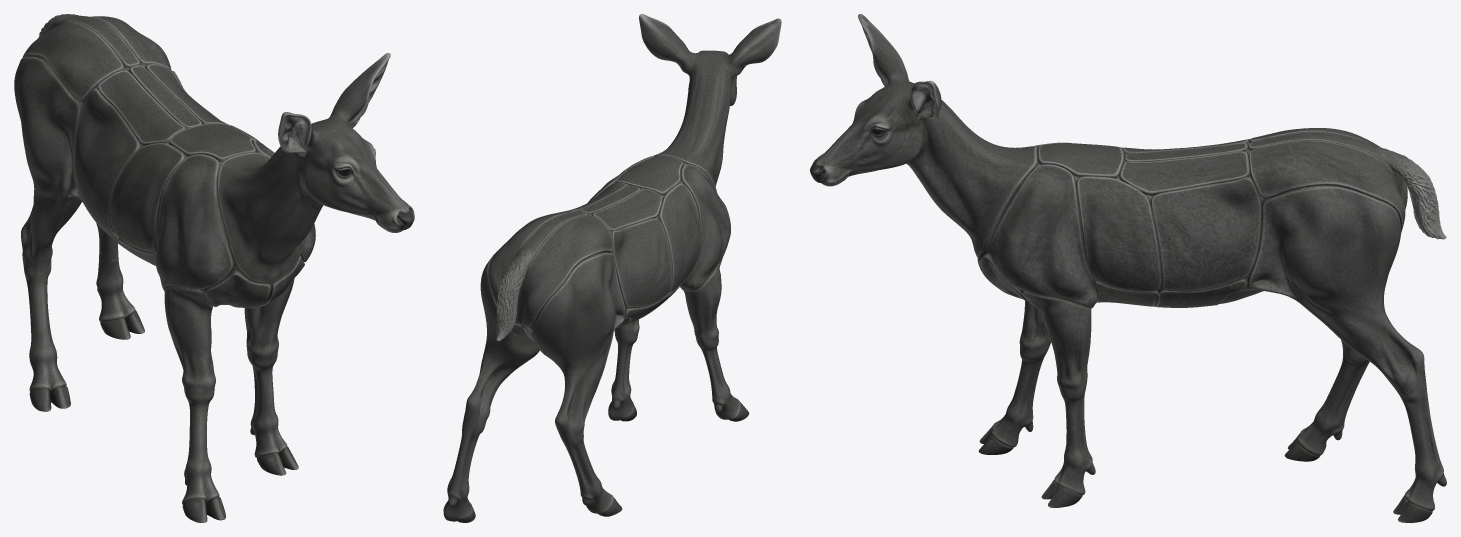
The model's file is deer-doe.glb.
3 renders of one model, left to right at view 1: azimuth 30°, elevation 25°; view 2: azimuth 150°, elevation 25°; view 3: azimuth 270°, elevation 25°, orthographic. The views are drawn at different scales.
Bounding box in the file's own units: 0.5651 × 1.46 × 1.9.
1 material, 1 textured.
